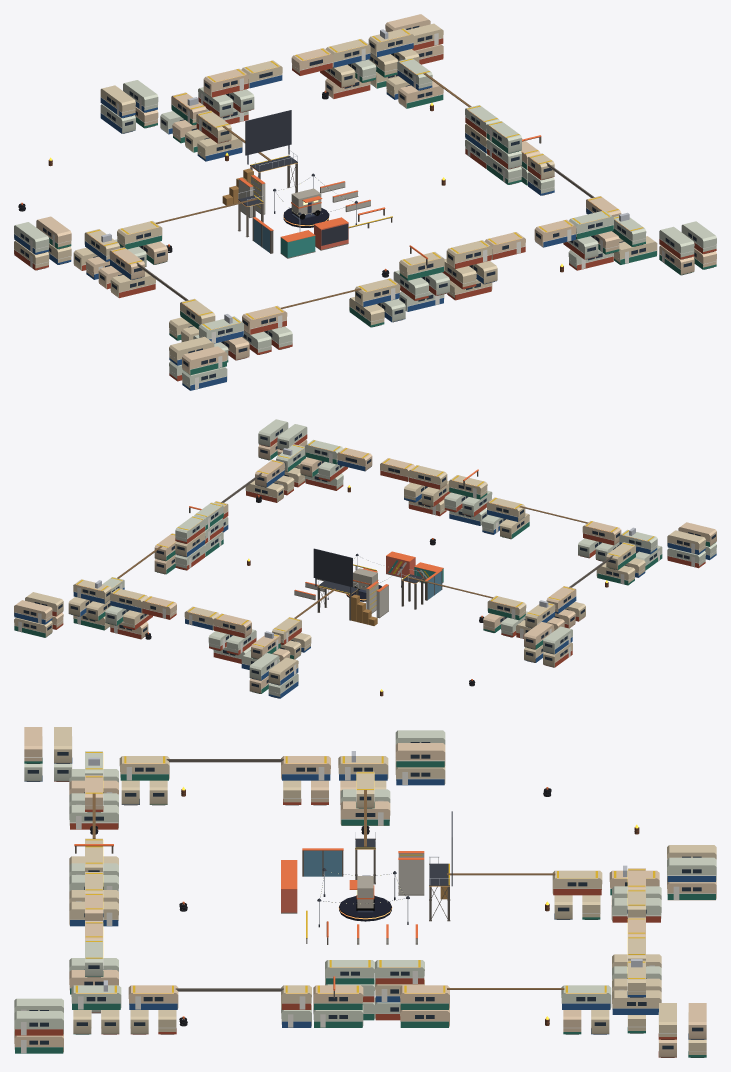
The picture shows the model from 3 angles, top to bottom: view 1: azimuth 30°, elevation 25°; view 2: azimuth 150°, elevation 25°; view 3: azimuth 270°, elevation 25°; orthographic projection. The views are drawn at different scales.
Visible parts, largest first — view 1: district_city_vertical.lod1; view 2: district_city_vertical.lod1; view 3: district_city_vertical.lod1.
Boxes of the visible parts, left/top/right/bottom form: district_city_vertical.lod1: left=14, top=14, right=716, bottom=390; district_city_vertical.lod1: left=14, top=419, right=716, bottom=698; district_city_vertical.lod1: left=14, top=727, right=716, bottom=1057.
Size of the model in its own units: 95.85 by 12.95 by 95.85.
